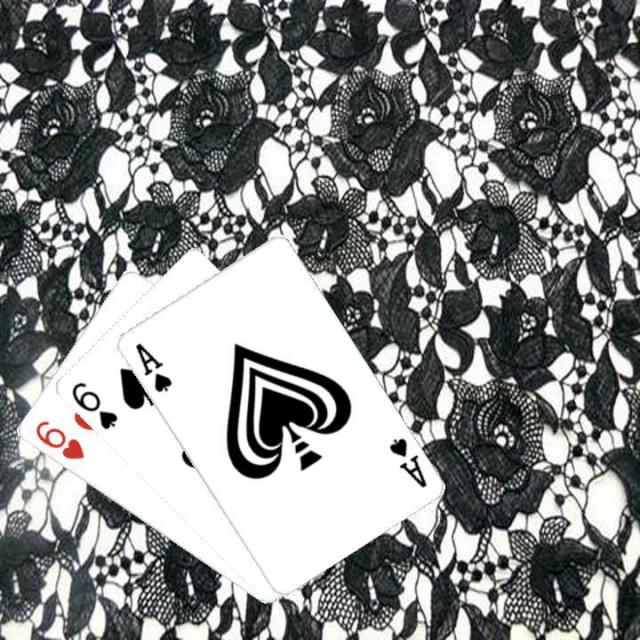6H: (30, 416, 86, 461)
6S: (67, 378, 119, 431)
AS: (384, 433, 428, 490), (131, 338, 173, 394)
